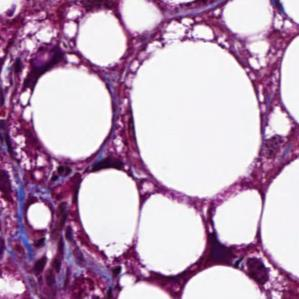inflammation: (13, 41, 69, 85), (90, 151, 138, 180)
